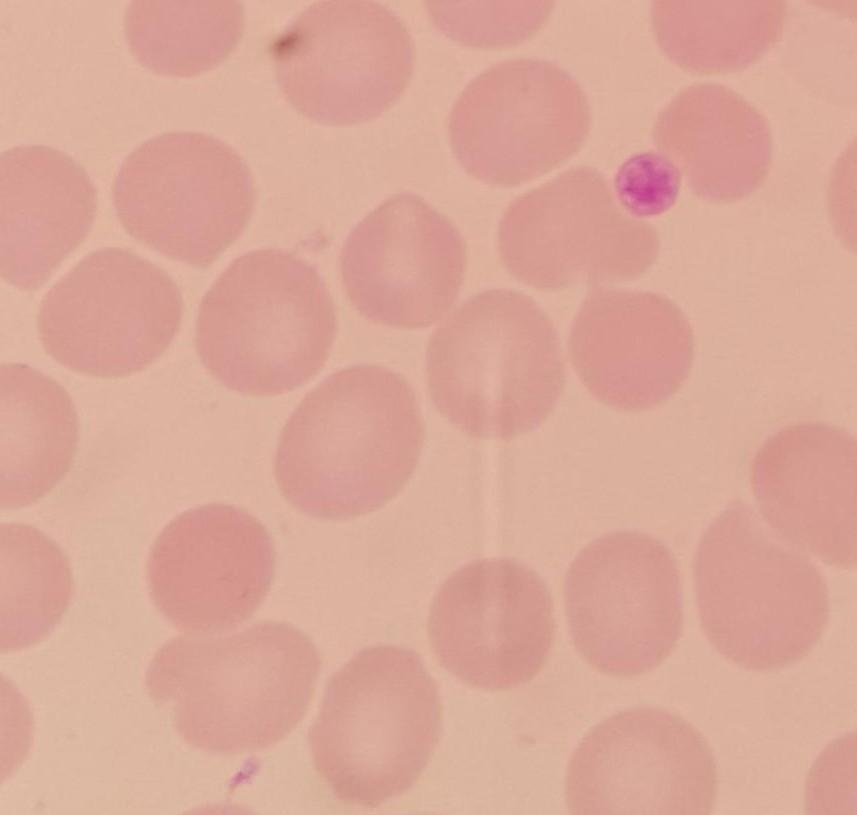Uninfected: (309, 261, 476, 403), (61, 146, 209, 305), (150, 658, 326, 788), (11, 295, 179, 421), (438, 187, 597, 320), (395, 405, 554, 537), (456, 35, 599, 172), (576, 107, 721, 239), (549, 473, 678, 621), (660, 425, 792, 563), (725, 259, 852, 397), (190, 138, 331, 262), (144, 536, 298, 649), (509, 322, 652, 443), (130, 406, 270, 529), (423, 542, 555, 661), (0, 537, 109, 679), (256, 714, 409, 810), (553, 1, 705, 94), (644, 624, 764, 735), (322, 1, 474, 75), (171, 2, 311, 71)
